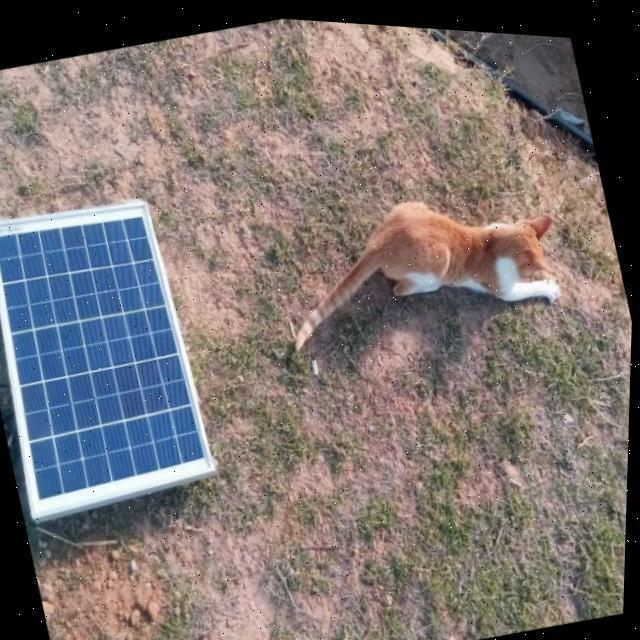Normal Solar Panel: (0, 180, 228, 528)
